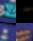recallP: (0, 0, 16, 23), (0, 23, 16, 41)
